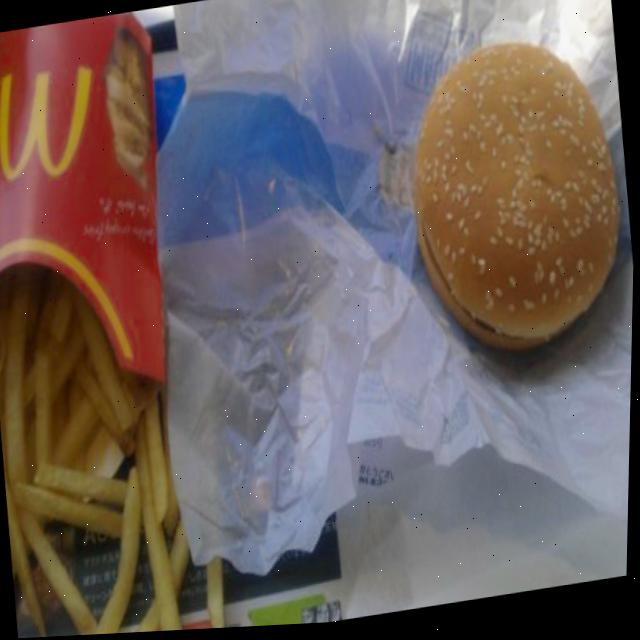汉堡快餐: (394, 0, 640, 364)
炸货点心: (0, 6, 225, 640)
